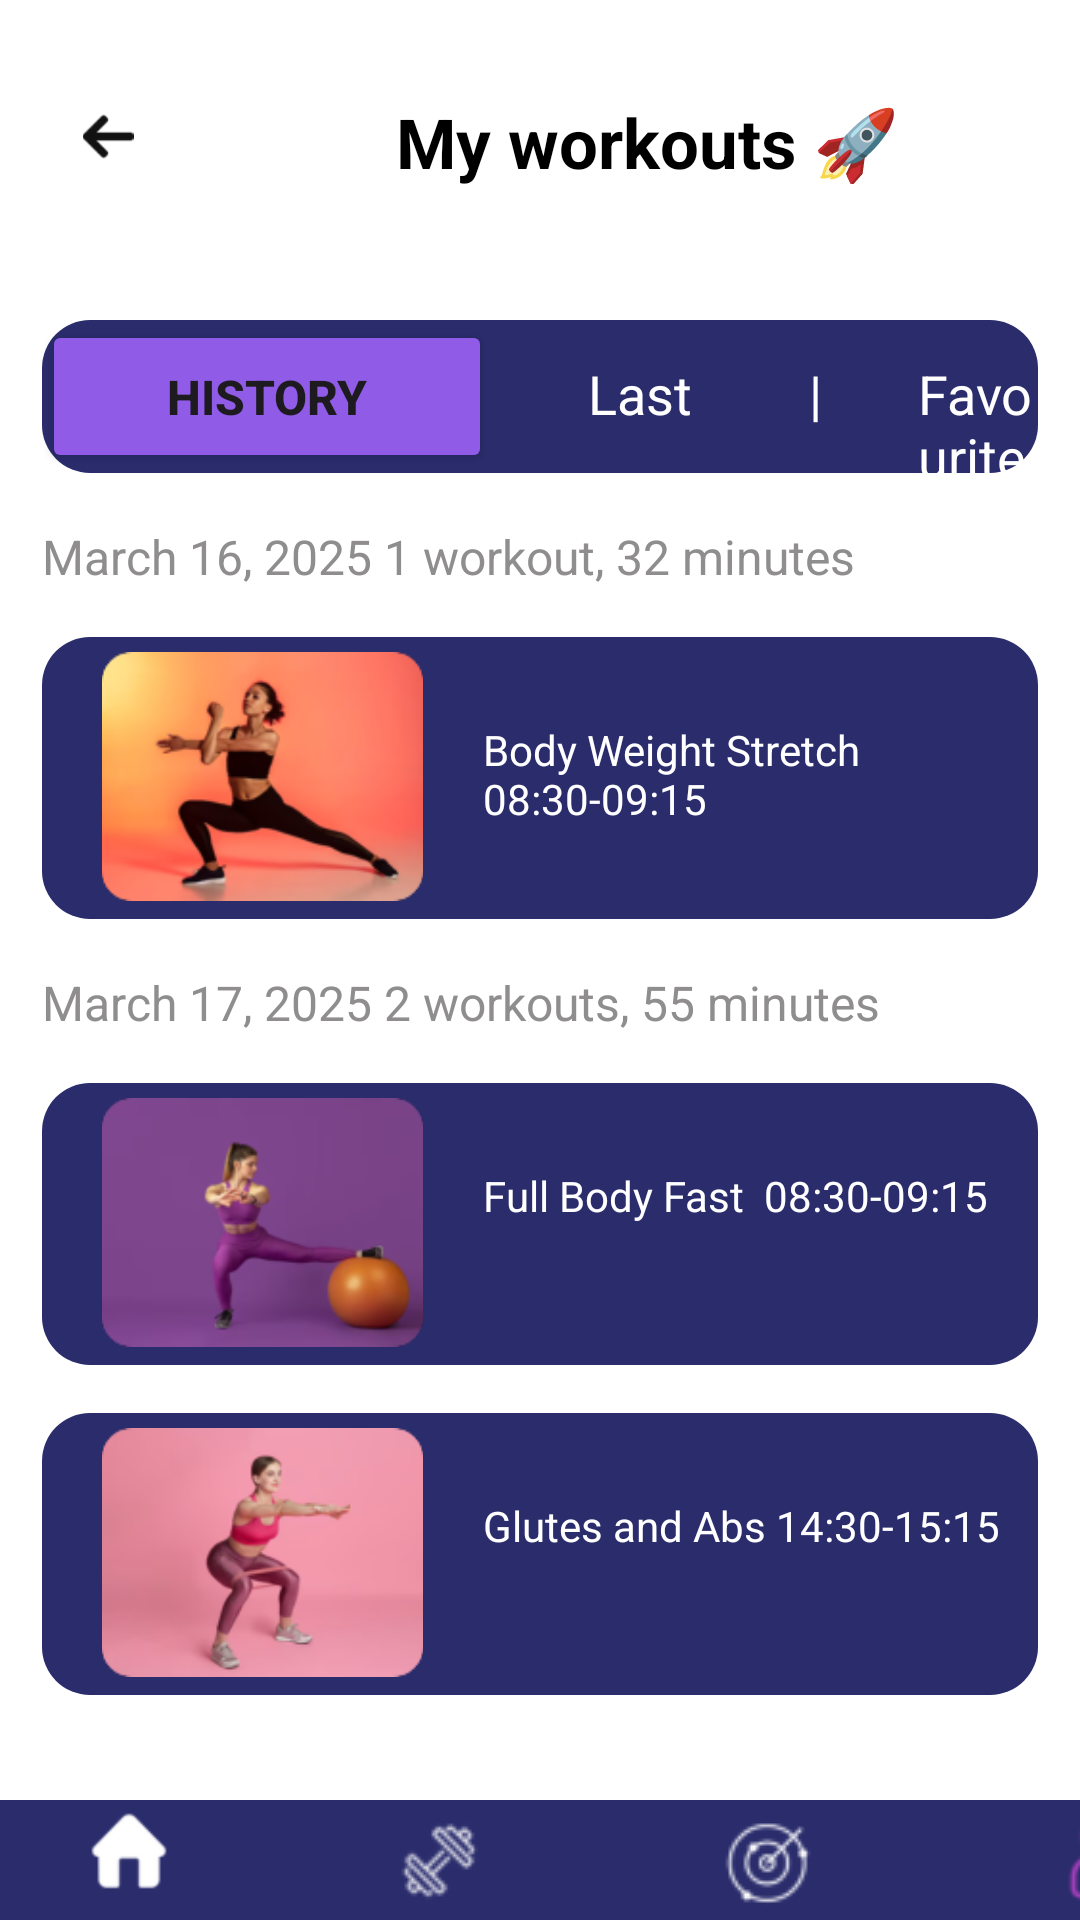

Screen size 1080px×1920px. Icon name, then its center in pixels as point (x, y):
activity: point (767, 1863)
home: point (129, 1851)
left arrow: point (108, 136)
trainings: point (439, 1860)
